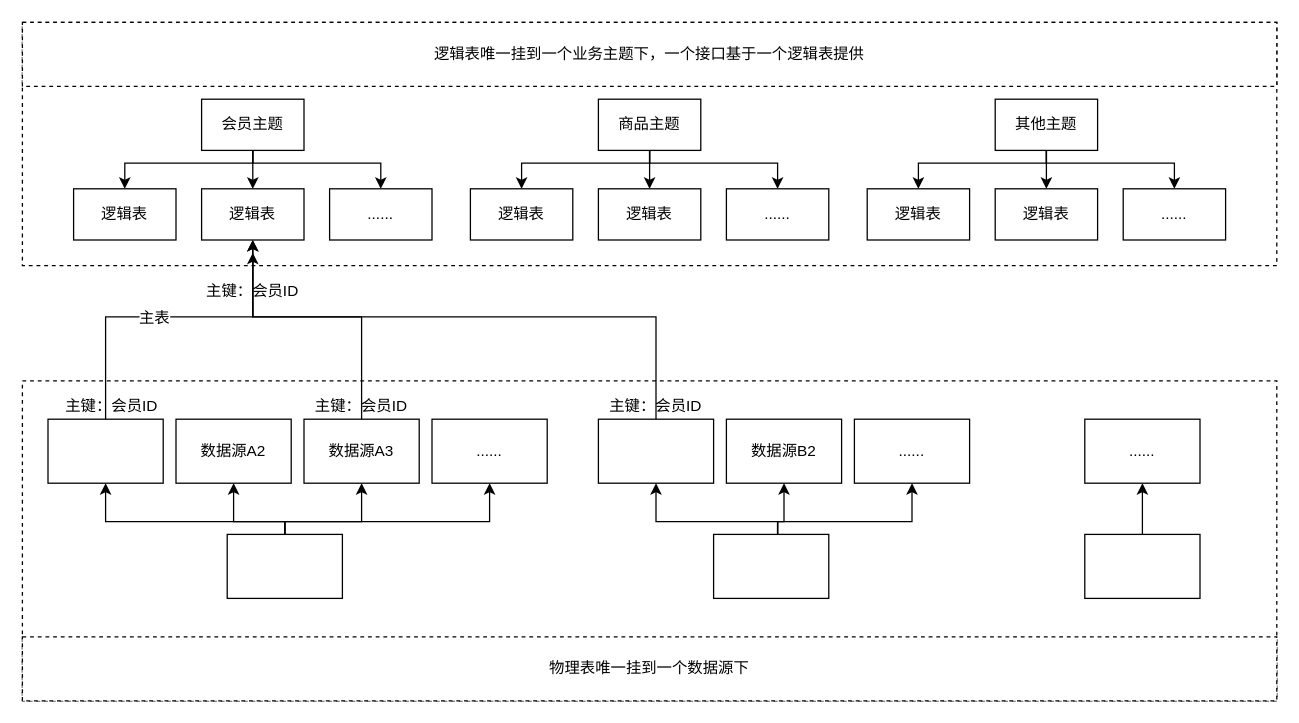
Image size: 1299x723. Some labels were removed from this diagram. The shapes that lost their labels are listed below. From the top down, each one's centre as x and y in pixels, then its label:
At (105,450): "数据源A1".
At (655,450): "数据源B1".
At (284,565): "数据源A".
At (770,565): "数据源B".
At (1142,565): "数据源C".
